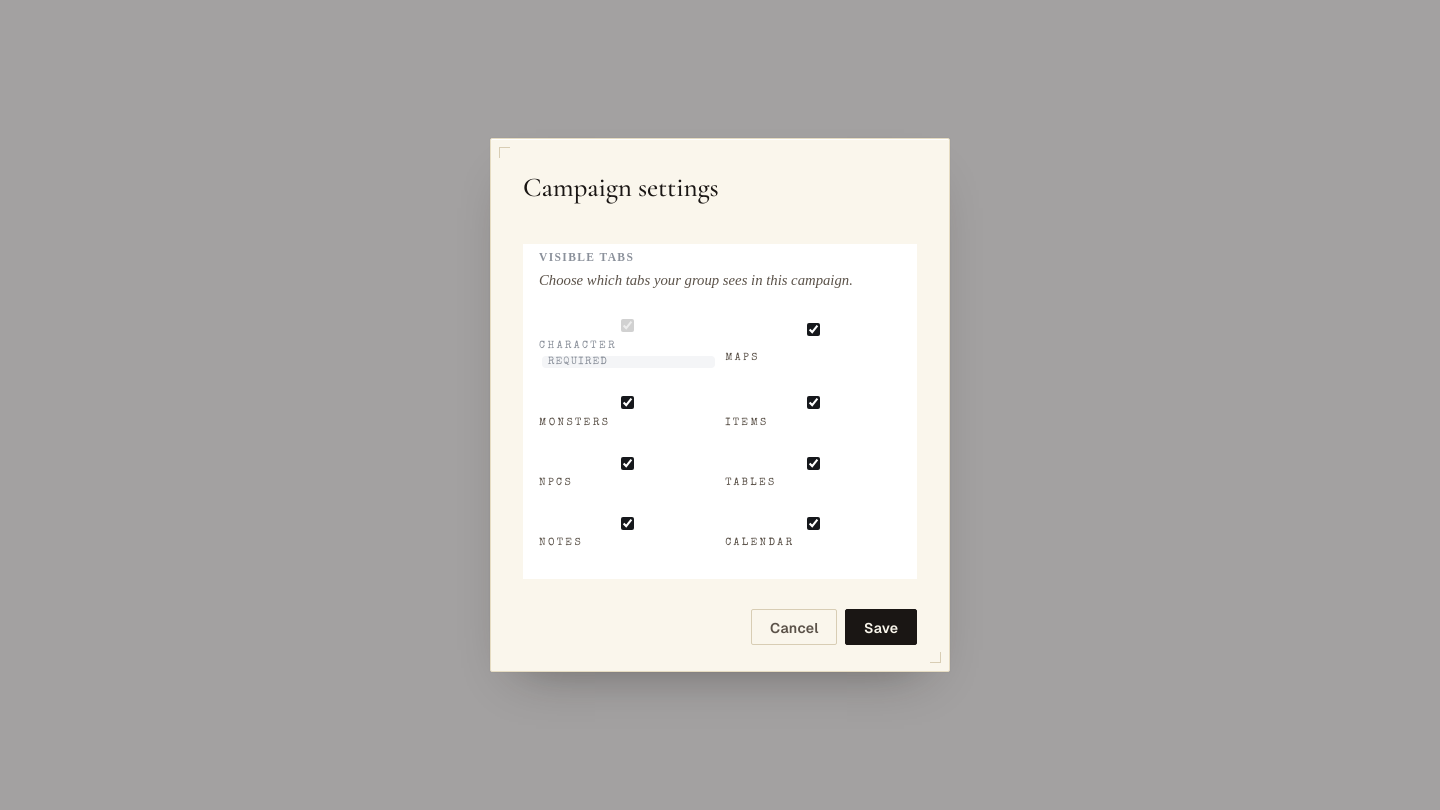
Test: CampaignSettingsModal › shows a refused save and stays open
Click the button "Save": x=881, y=627 [845,609,917,645]
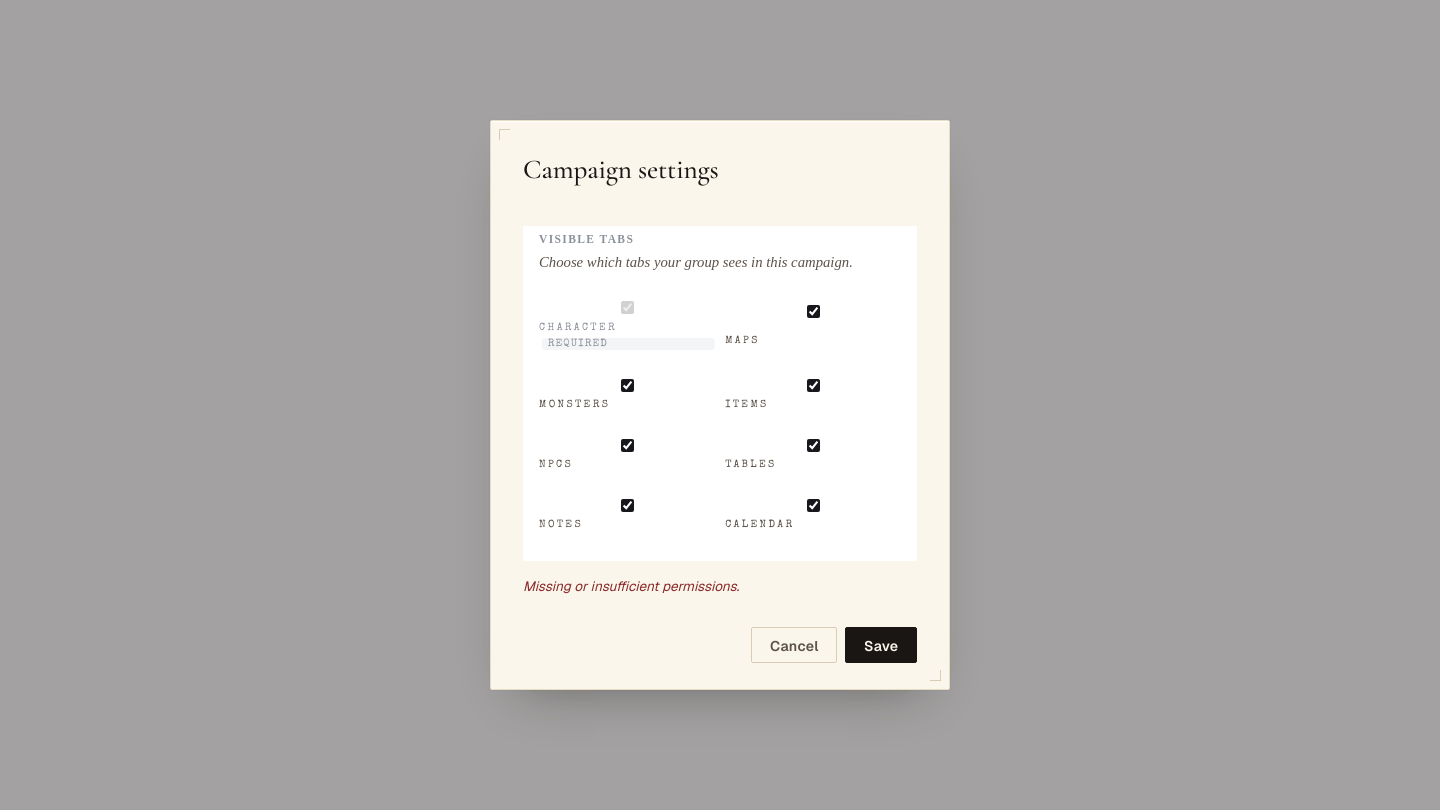
Now the text "Missing or insufficient permissions." is shown, box [523,577,739,595]
